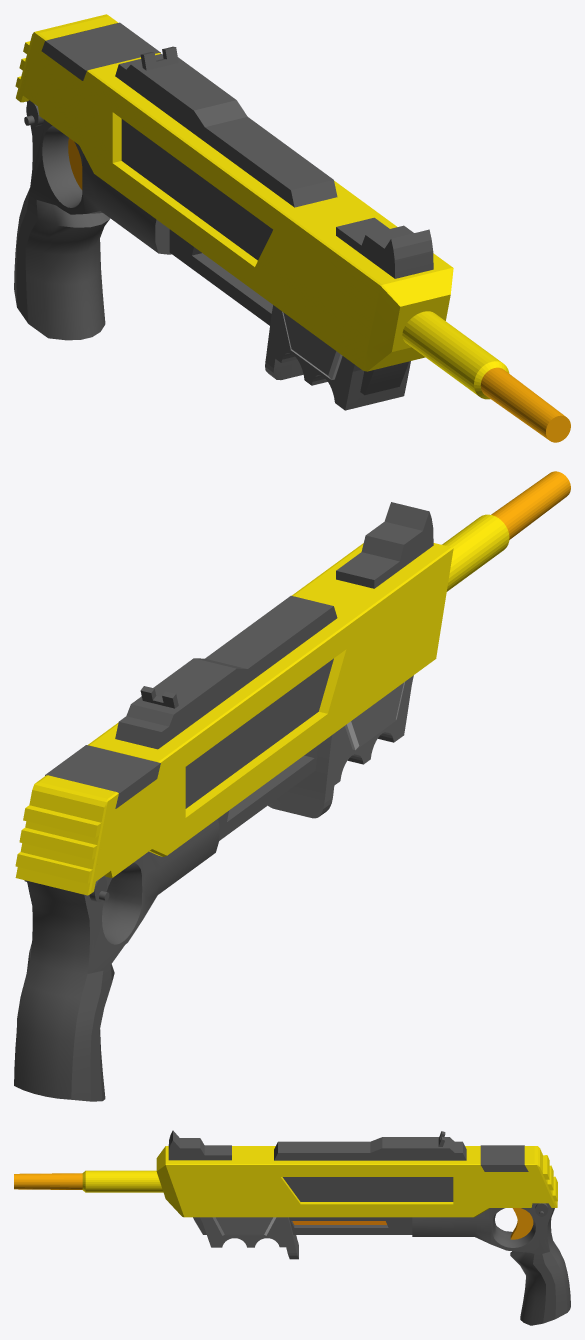
File: SuolaAse.fbx
The picture shows the model from 3 angles, top to bottom: view 1: azimuth 30°, elevation 25°; view 2: azimuth 150°, elevation 25°; view 3: azimuth 270°, elevation 25°; orthographic projection. The views are drawn at different scales.
Parts seen in each view (by area): view 1: Cube, Cube.002, Cube.001, Cube.006; view 2: Cube, Cube.002, Cube.001, Cube.006; view 3: Cube, Cube.002, Cube.001, Cube.006, Cube.005.
Part boxes in pixels (left/top/right/bottom): Cube: left=15, top=14, right=570, bottom=442; Cube.002: left=14, top=100, right=408, bottom=395; Cube.001: left=265, top=305, right=410, bottom=410; Cube.006: left=41, top=22, right=160, bottom=80; Cube: left=15, top=471, right=570, bottom=895; Cube.002: left=14, top=745, right=318, bottom=1101; Cube.001: left=268, top=675, right=413, bottom=818; Cube.006: left=45, top=745, right=160, bottom=808; Cube: left=14, top=1130, right=557, bottom=1217; Cube.002: left=193, top=1203, right=570, bottom=1325; Cube.001: left=200, top=1217, right=298, bottom=1259; Cube.006: left=480, top=1145, right=528, bottom=1171; Cube.005: left=510, top=1208, right=533, bottom=1239.
Bounding box in the file's own units: 151 × 612 × 1688.
